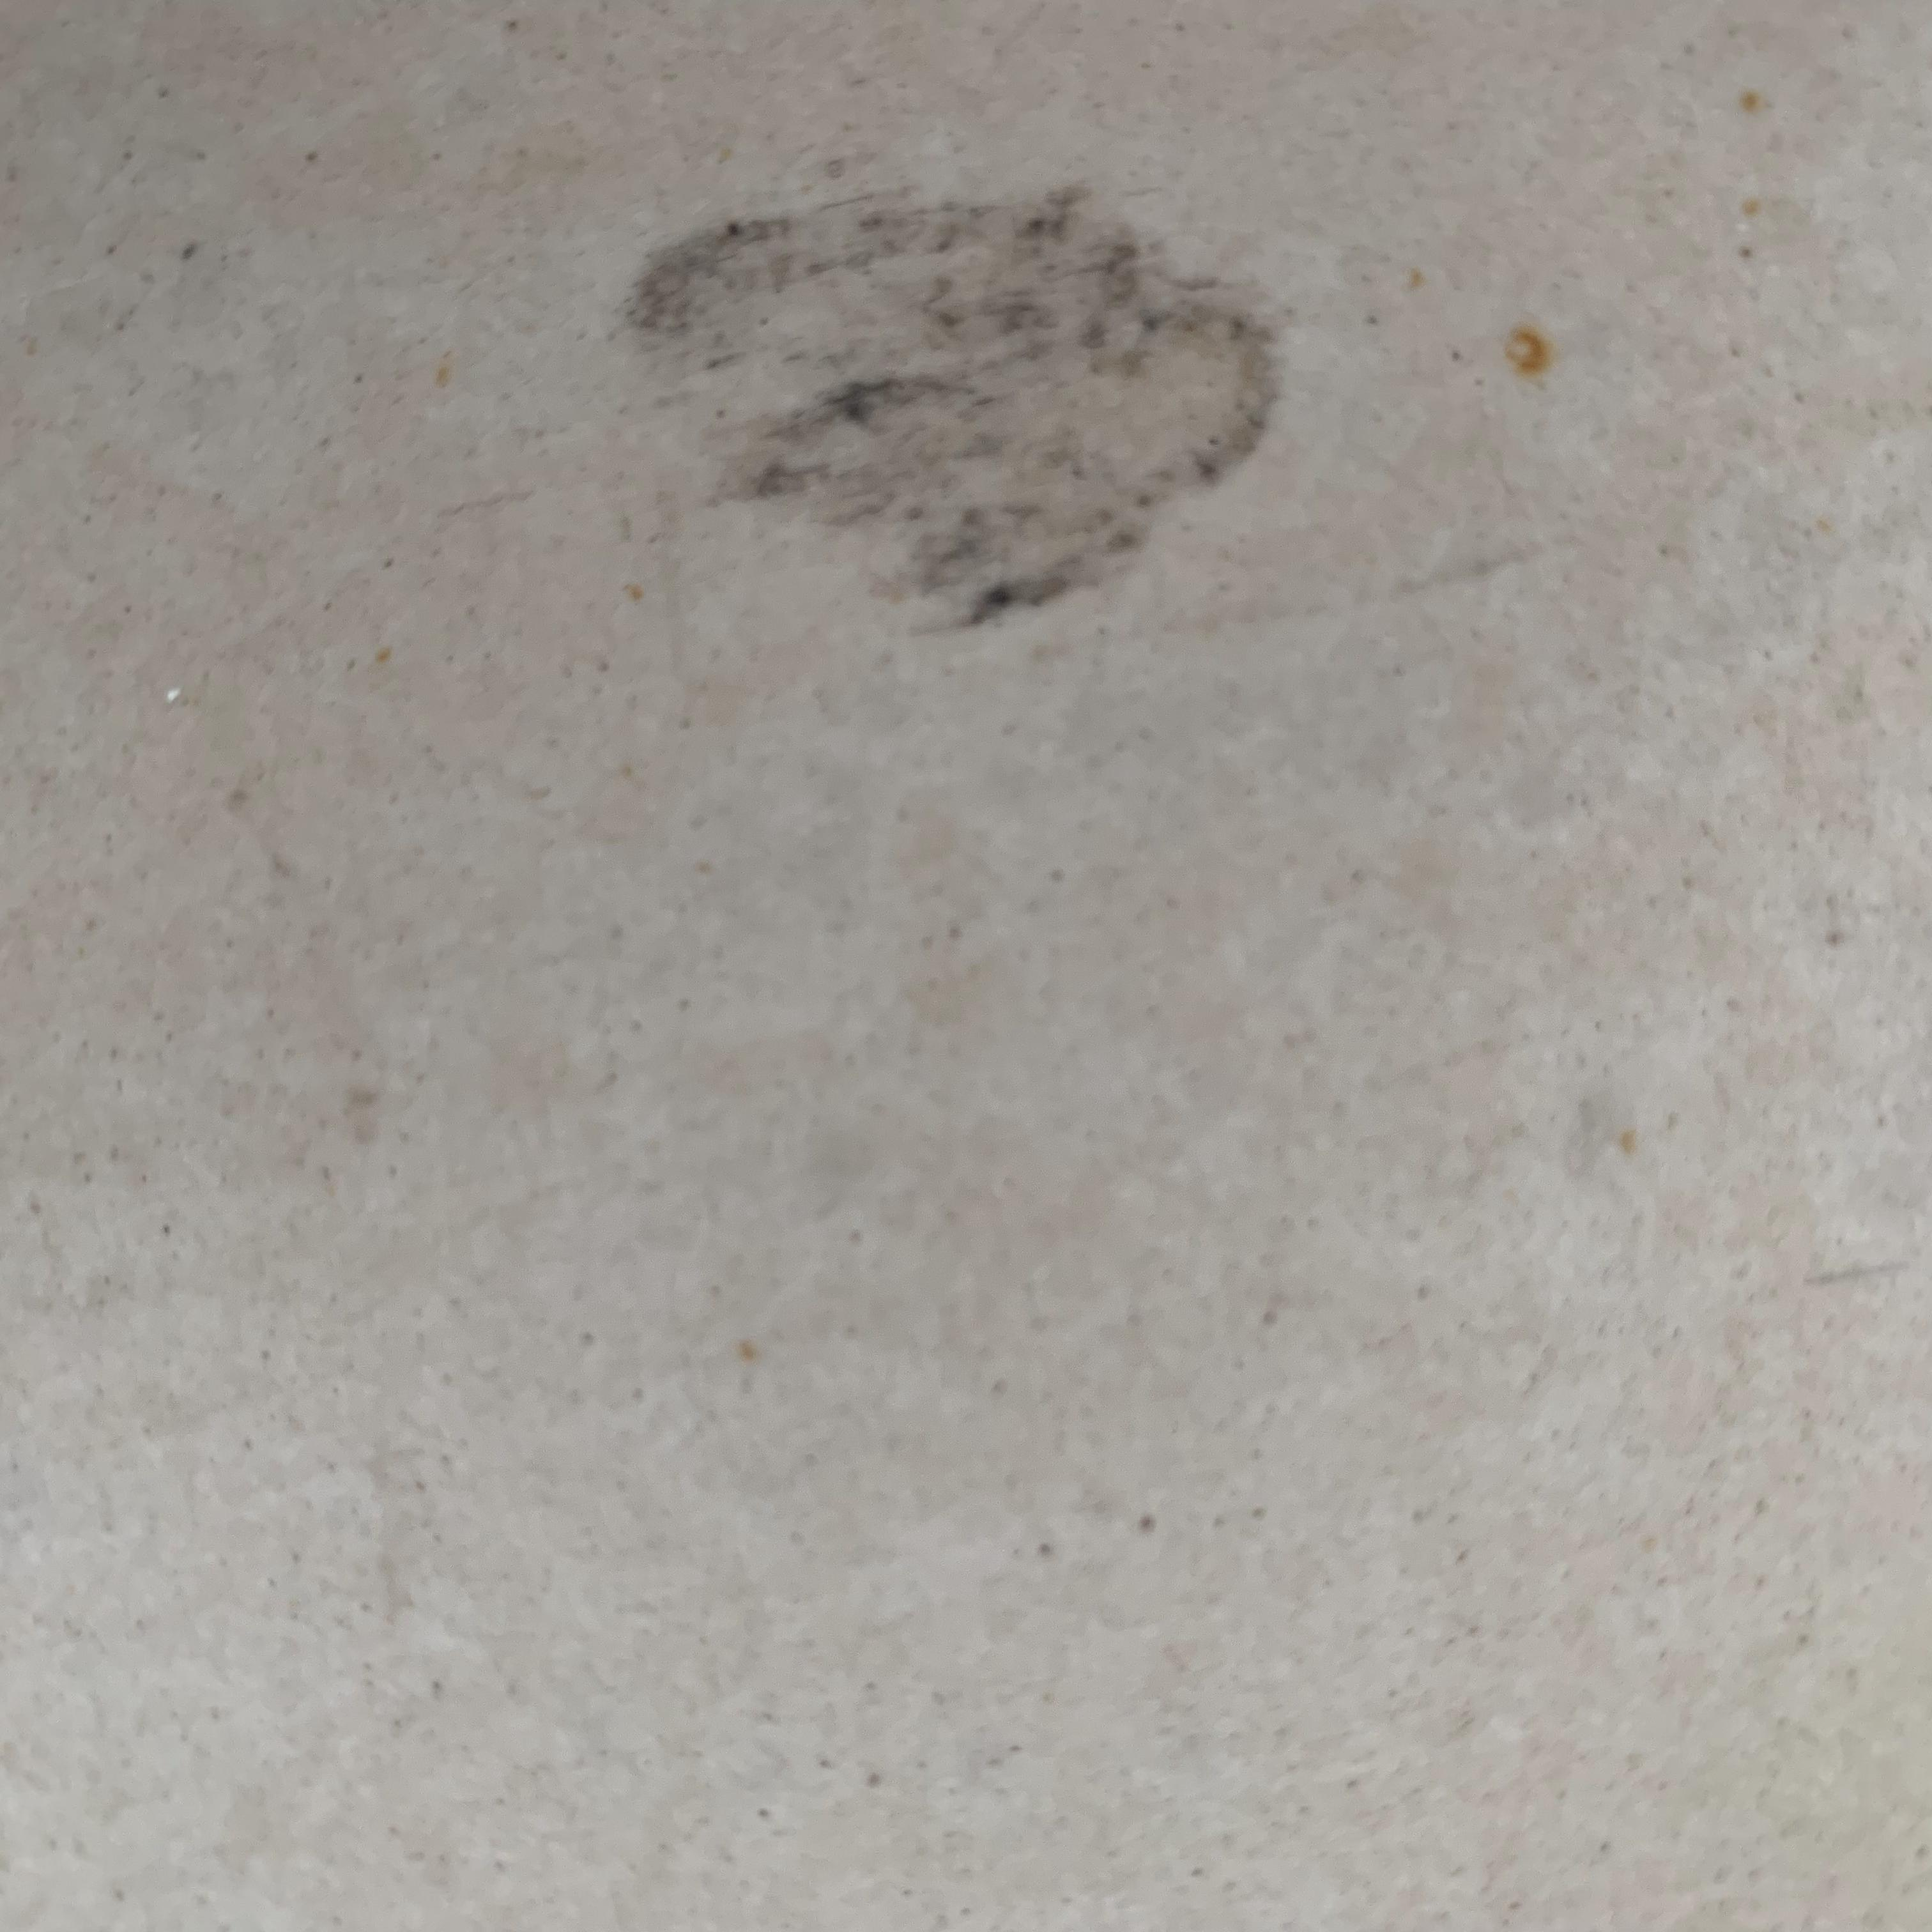grey spot: (617, 186, 1290, 633)
